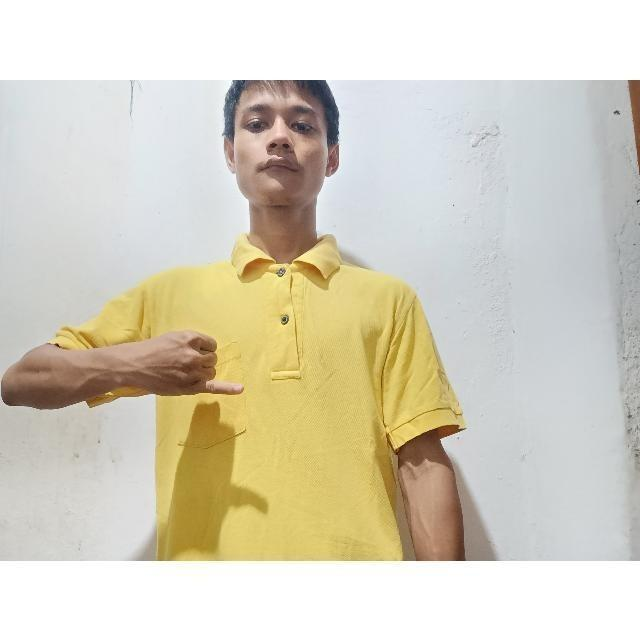J: (130, 326, 251, 399)
